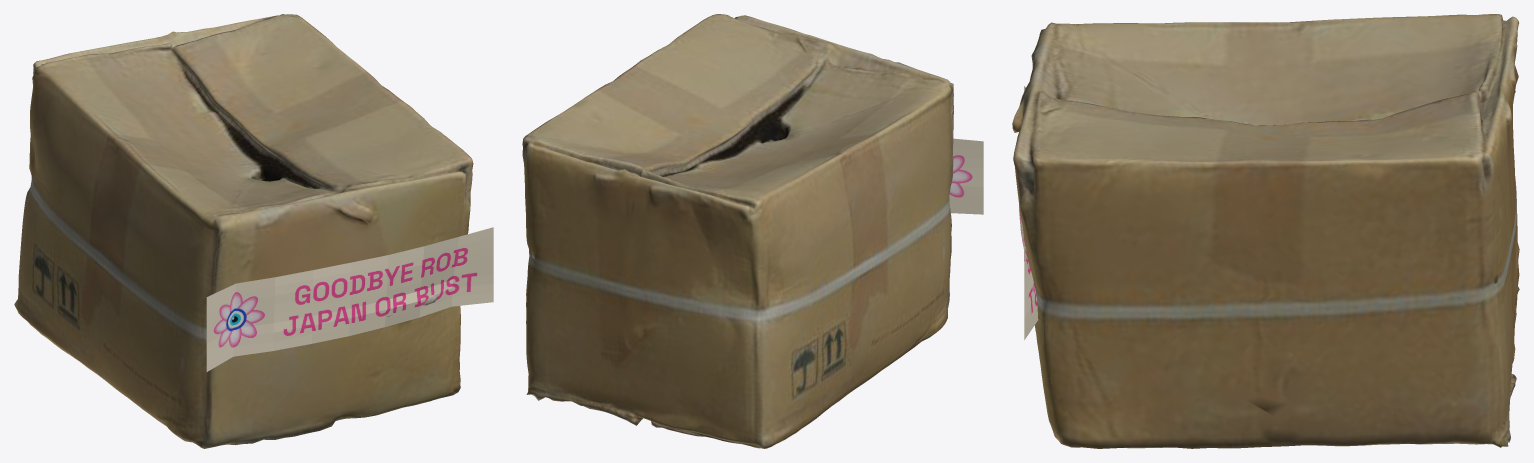
The model's file is nyb_clover_box.glb.
3 renders of one model, left to right at view 1: azimuth 30°, elevation 25°; view 2: azimuth 150°, elevation 25°; view 3: azimuth 270°, elevation 25°, orthographic. The views are drawn at different scales.
Visible parts, largest first — view 1: cardboard_box_01, stk_lbl_a5bd1a25d8.png; view 2: cardboard_box_01, stk_lbl_a5bd1a25d8.png; view 3: cardboard_box_01, stk_lbl_a5bd1a25d8.png.
Part boxes in pixels (x1=…): cardboard_box_01: x1=14, y1=14, x2=473, y2=448; stk_lbl_a5bd1a25d8.png: x1=206, y1=227, x2=493, y2=371; cardboard_box_01: x1=522, y1=14, x2=953, y2=448; stk_lbl_a5bd1a25d8.png: x1=949, y1=138, x2=983, y2=214; cardboard_box_01: x1=1012, y1=14, x2=1519, y2=448; stk_lbl_a5bd1a25d8.png: x1=1019, y1=86, x2=1038, y2=339.
Bounding box in the file's own units: 0.4 × 0.3418 × 0.5159.
2 materials, 2 textured.
